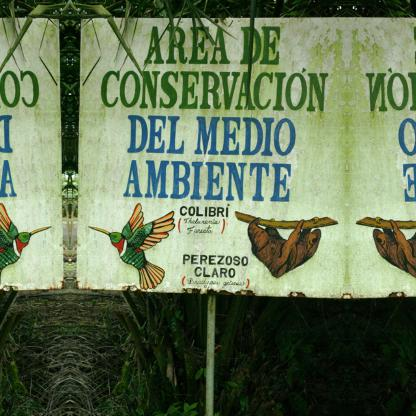Bird: (98, 205, 170, 279), (0, 205, 41, 280)
